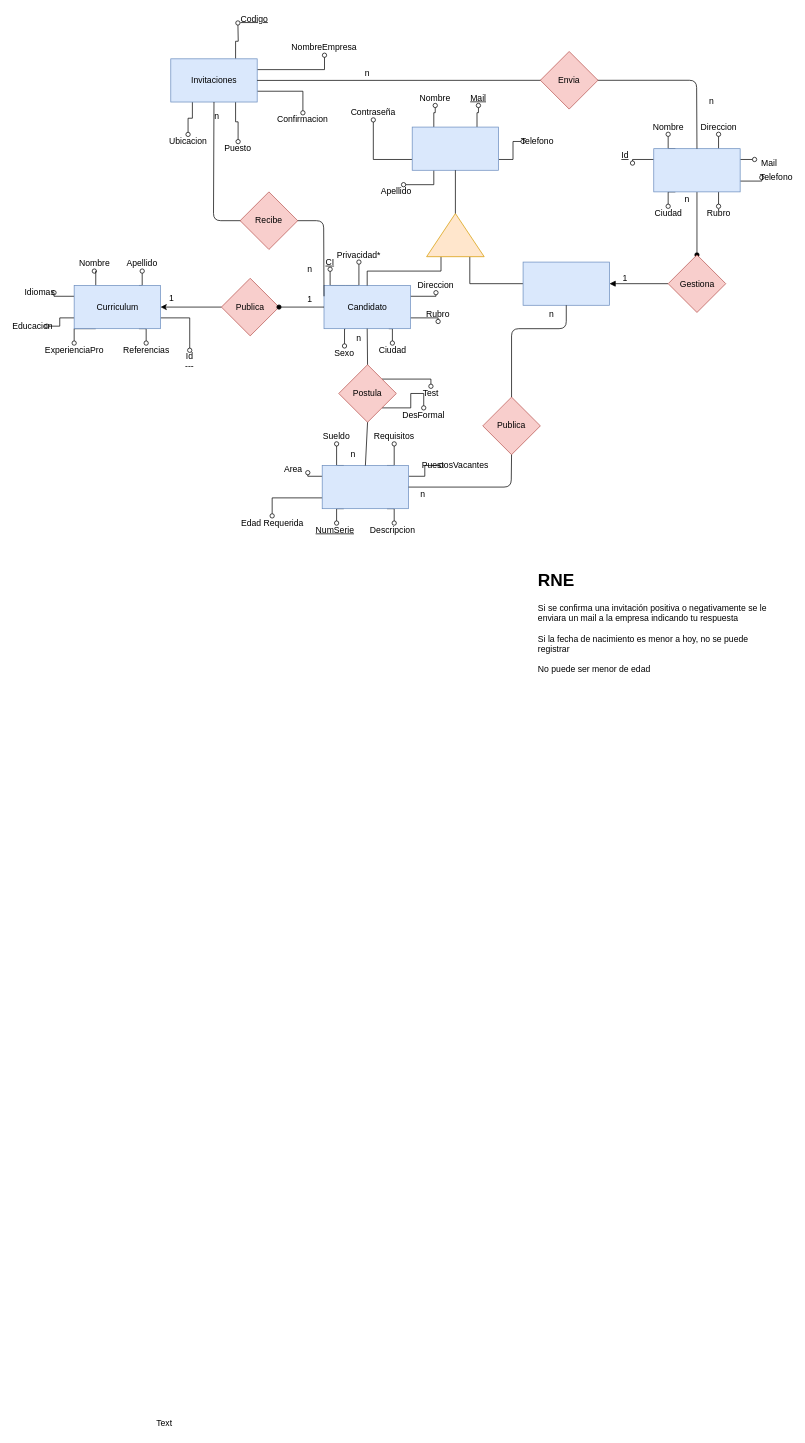
This 805x1443 diagram has some shape labels left out. Here are the shapes that lost their labels. From the top down, the centre of each, then its label:
pixel 455 148: Usuario
pixel 696 170: Empresa
pixel 565 283: GestorEmpresa
pixel 365 487: Oferta
